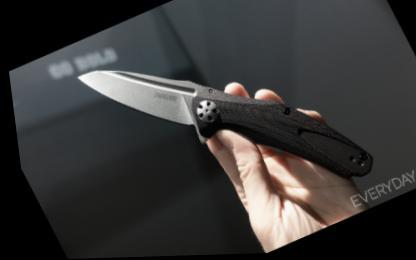knife: (59, 0, 388, 256)
